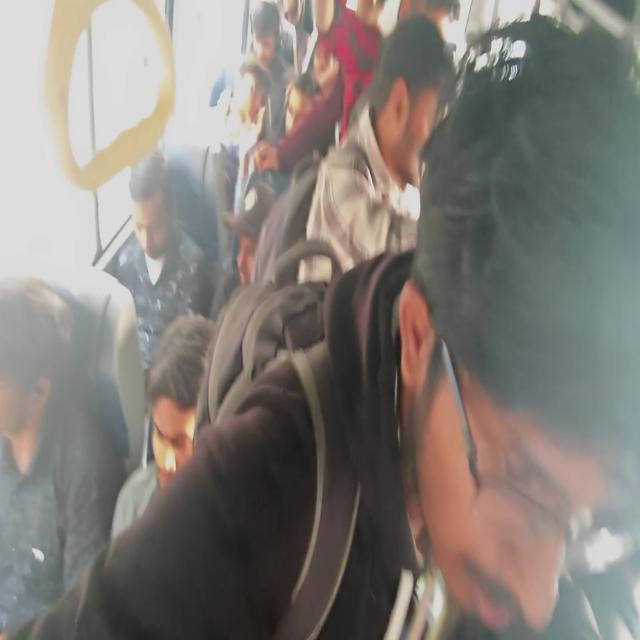person: (426, 91, 640, 640), (104, 317, 218, 519), (0, 294, 102, 473), (367, 49, 473, 161), (140, 142, 202, 285), (254, 8, 299, 93), (232, 204, 270, 300), (290, 74, 322, 171), (230, 67, 266, 134), (401, 0, 454, 41), (284, 0, 314, 54), (313, 36, 335, 88)
